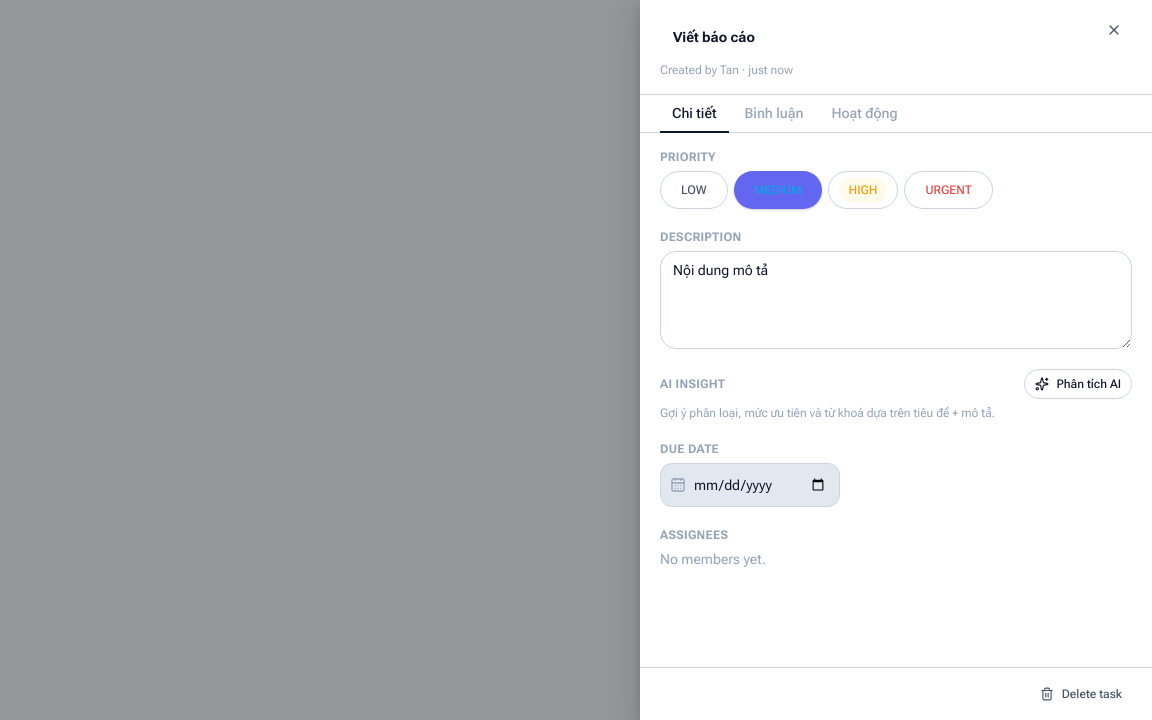
Test: TaskDetail tabs › shows this task's activities in the activity tab
Click the tab "Hoạt động".
click(865, 114)  # box top-left (819, 95), bottom-right (910, 133)
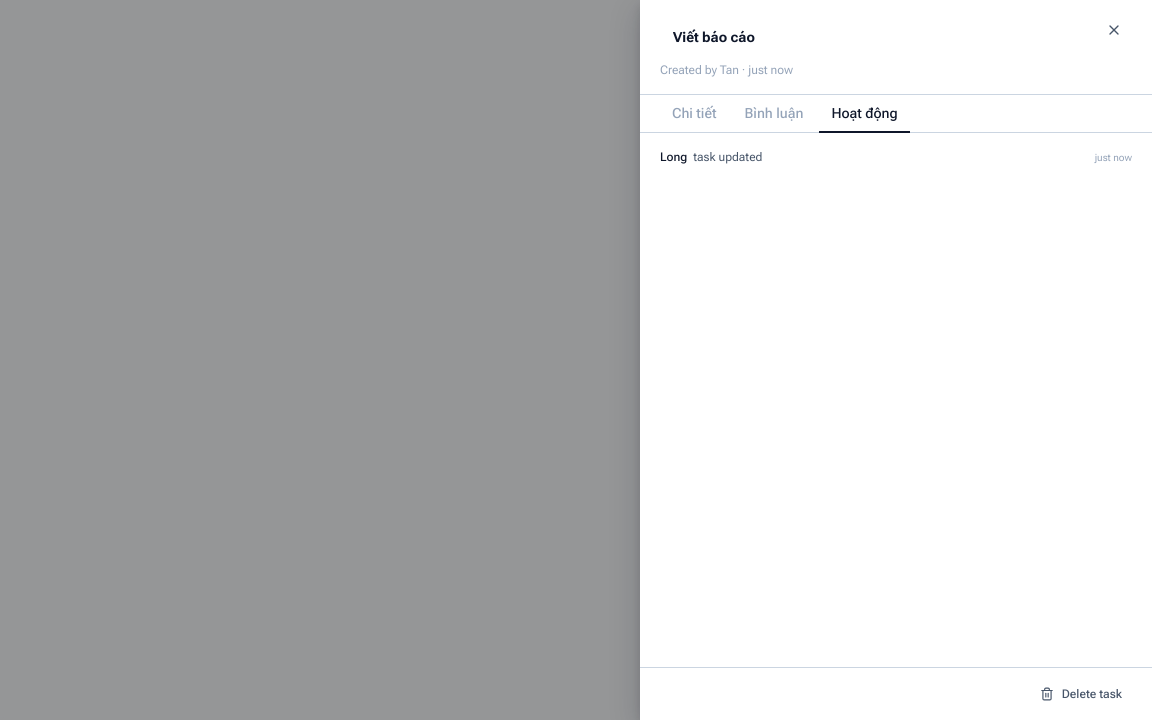
Now the list item "Long task updated just now" is shown, box top-left (660, 149), bottom-right (1132, 166)
